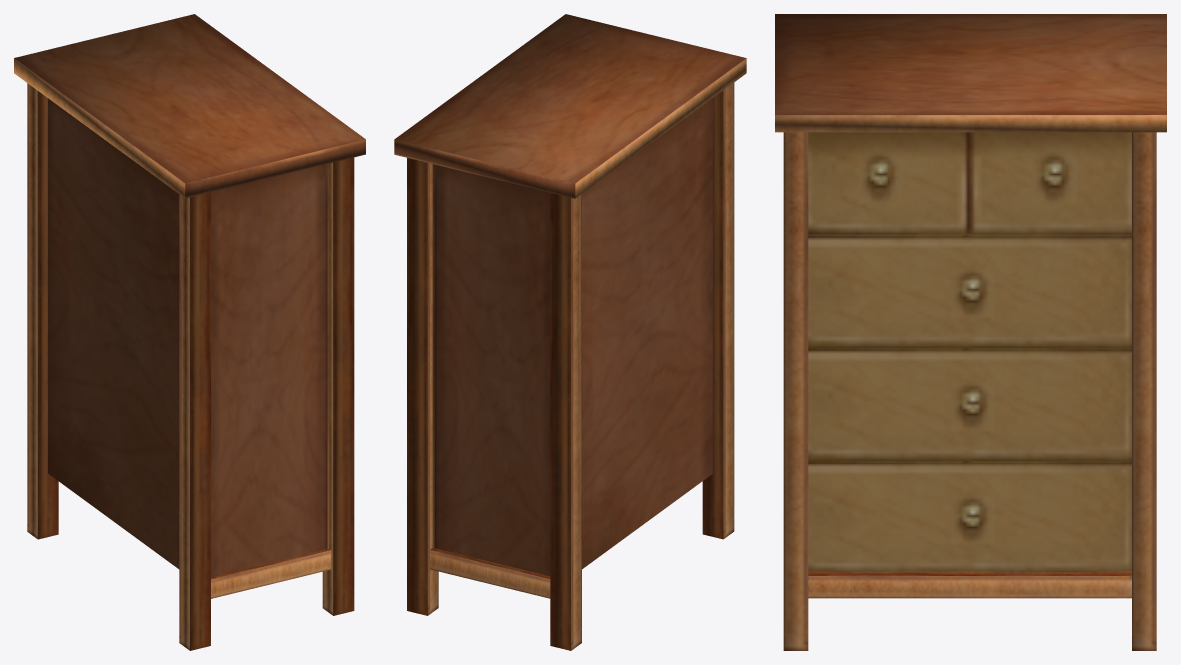
File: a_SWIchest04.glb
The picture shows the model from 3 angles, left to right: view 1: azimuth 30°, elevation 25°; view 2: azimuth 150°, elevation 25°; view 3: azimuth 270°, elevation 25°; orthographic projection. The views are drawn at different scales.
Parts seen in each view (by area): view 1: a_SWIchest04; view 2: a_SWIchest04; view 3: a_SWIchest04.
Part boxes in pixels (x1,y1,x2,y2): a_SWIchest04: (14,14,365,650); a_SWIchest04: (394,14,746,650); a_SWIchest04: (775,14,1166,650).
Bounding box in the file's own units: 0.5564 × 1.39 × 0.9132.
Materials: 1 (1 with a texture image).
